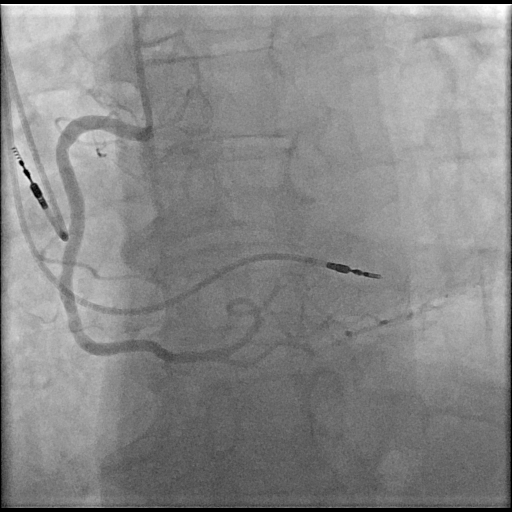RCA: (56, 117, 255, 363)
catherter: (128, 1, 153, 133)
